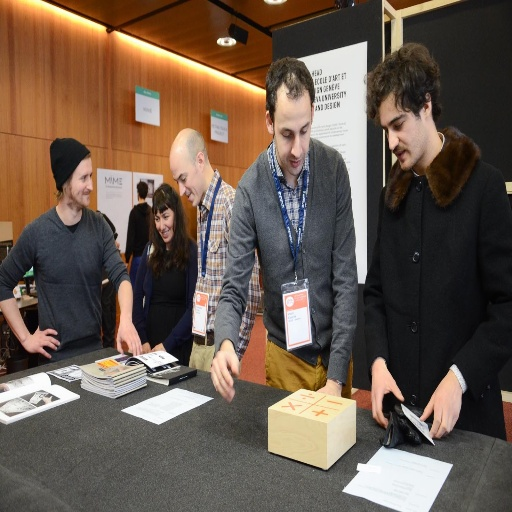hand: (419, 376, 463, 441), (209, 337, 244, 408), (369, 362, 404, 431), (28, 324, 61, 361), (115, 321, 143, 357), (314, 385, 343, 396), (151, 342, 166, 352), (141, 341, 152, 353)
